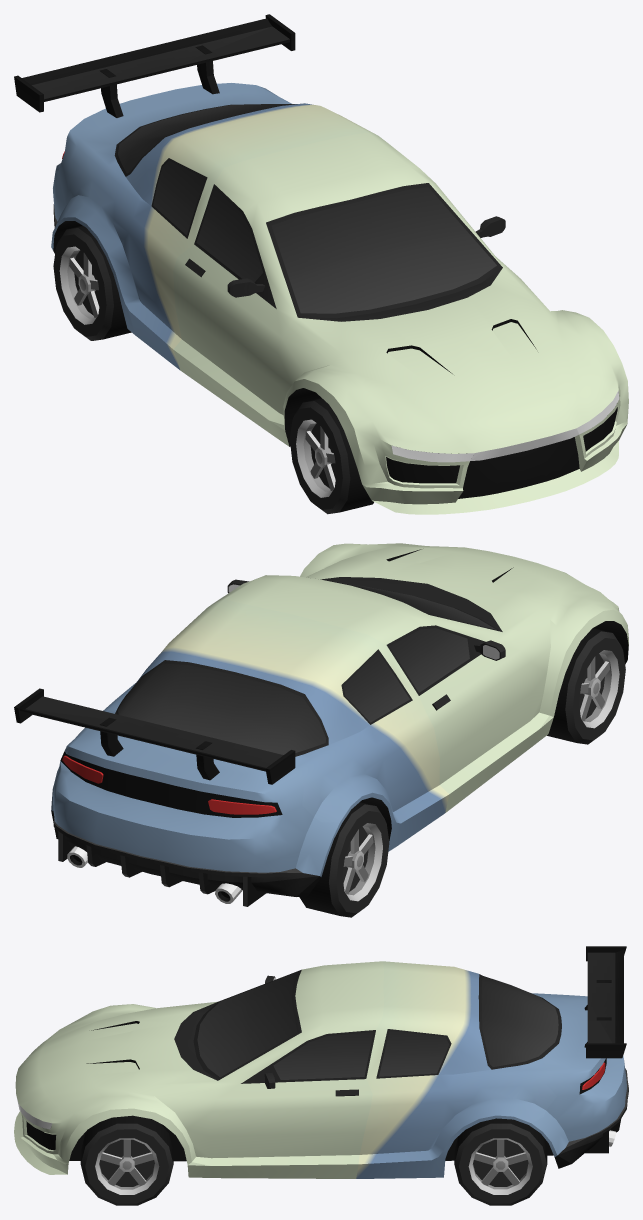
File: Car_37.fbx
3 renders of one model, top to bottom at view 1: azimuth 30°, elevation 25°; view 2: azimuth 150°, elevation 25°; view 3: azimuth 270°, elevation 25°, orthographic. The views are drawn at different scales.
Visible parts, largest first — view 1: Car_37, Car_37_Tire.001, Car_37_Tire; view 2: Car_37, Car_37_Tire.001, Car_37_Tire; view 3: Car_37, Car_37_Tire.003, Car_37_Tire.002.
Boxes of the visible parts, box(x1,y1,x2,y2) form: Car_37: box(14, 14, 628, 514); Car_37_Tire.001: box(289, 398, 373, 514); Car_37_Tire: box(53, 225, 131, 340); Car_37: box(14, 543, 628, 906); Car_37_Tire.001: box(547, 628, 625, 744); Car_37_Tire: box(299, 802, 389, 917); Car_37: box(14, 946, 628, 1178); Car_37_Tire.003: box(80, 1115, 173, 1205); Car_37_Tire.002: box(454, 1118, 547, 1205).
Size of the model in its own units: 1.93 by 1.37 by 4.6.
